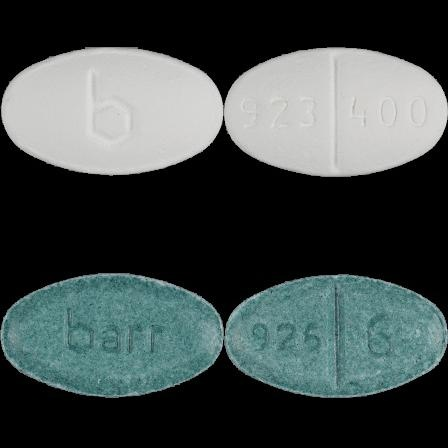0555-0923: (0, 0, 224, 224)
